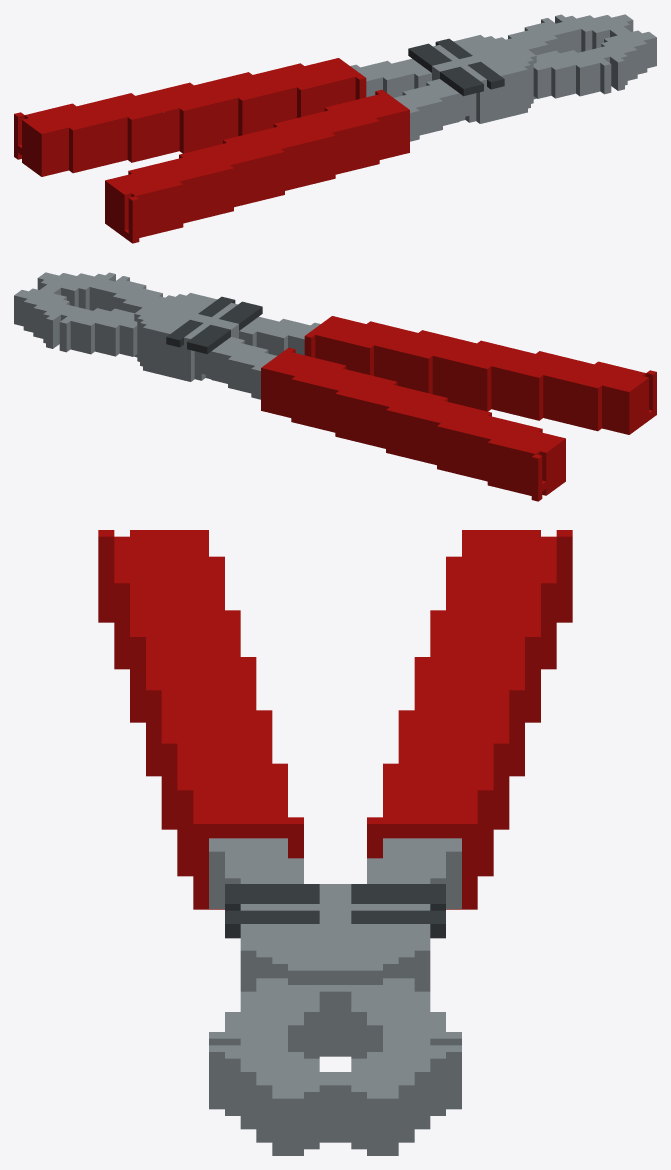
The model's file is pliers.glb.
The picture shows the model from 3 angles, top to bottom: view 1: azimuth 30°, elevation 25°; view 2: azimuth 150°, elevation 25°; view 3: azimuth 270°, elevation 25°; orthographic projection. The views are drawn at different scales.
Parts seen in each view (by area): view 1: pliers:pliers; view 2: pliers:pliers; view 3: pliers:pliers.
Part boxes in pixels (bbox=[...]): pliers:pliers: bbox=[14, 14, 656, 243]; pliers:pliers: bbox=[14, 272, 656, 501]; pliers:pliers: bbox=[98, 530, 572, 1155].
Bounding box in the file's own units: 0.166 × 0.012 × 0.06.
